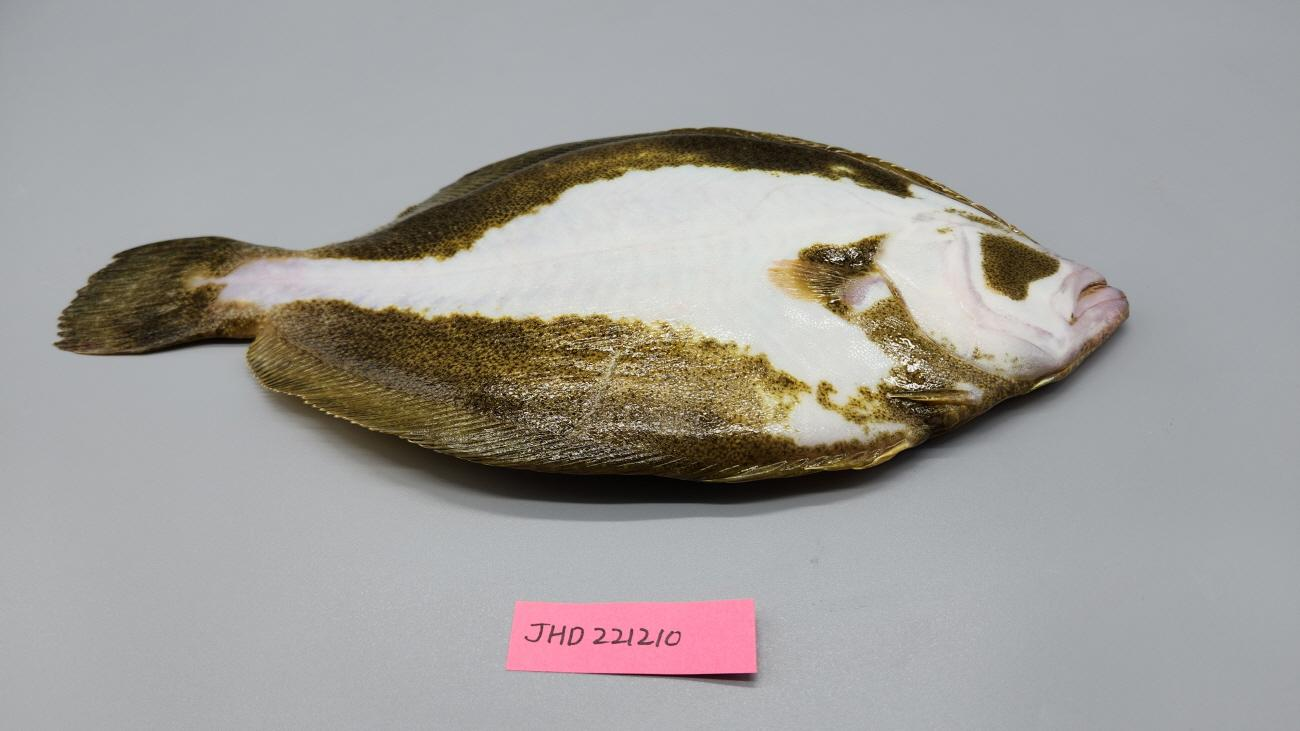MAMOU: (1073, 267, 1123, 318)
MAOUY: (52, 126, 1130, 484)
